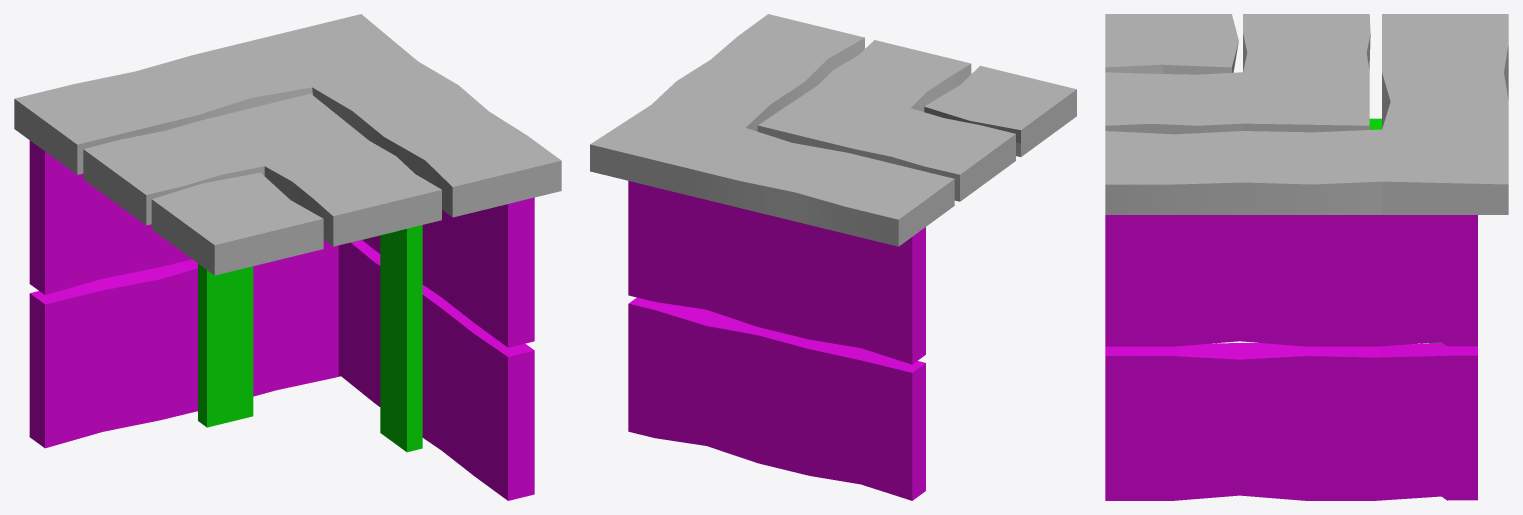
File: KCounterCorner.fbx
3 views of the same model, side by side, from view 1: azimuth 30°, elevation 25°; view 2: azimuth 150°, elevation 25°; view 3: azimuth 270°, elevation 25° (orthographic). The views are drawn at different scales.
Visible parts, largest first — view 1: CounterCorner_LP1_group6_pCube99; view 2: CounterCorner_LP1_group6_pCube99; view 3: CounterCorner_LP1_group6_pCube99.
Boxes of the visible parts, bbox=[...] form: CounterCorner_LP1_group6_pCube99: bbox=[14, 14, 561, 500]; CounterCorner_LP1_group6_pCube99: bbox=[590, 14, 1076, 500]; CounterCorner_LP1_group6_pCube99: bbox=[1105, 14, 1508, 500].
Size of the model in its own units: 2 by 1.86 by 2.
